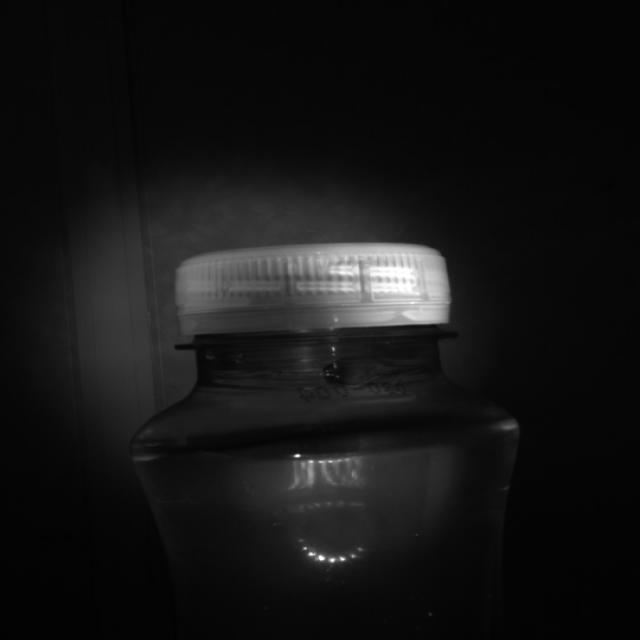Good: (170, 239, 454, 341)
